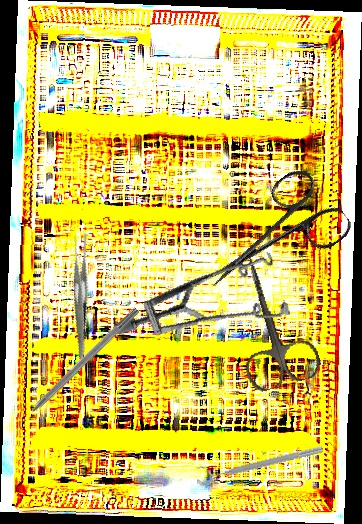Dressing Forceps: (39, 230, 120, 359)
Fixation Ring: (193, 435, 325, 488)
Hook Surgical: (13, 305, 141, 429)
Iris Scissors: (186, 161, 356, 318), (214, 245, 325, 395)
Speculum: (111, 215, 306, 381)
